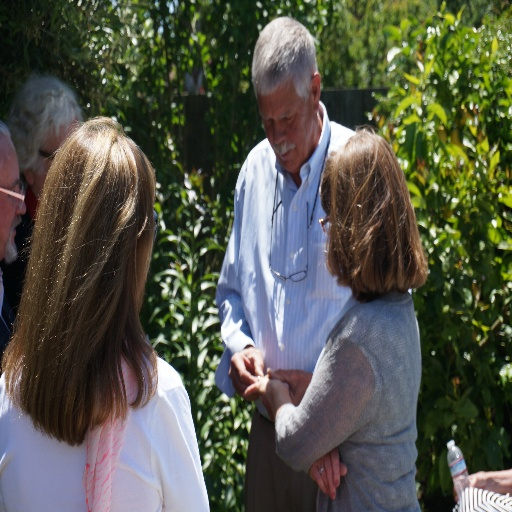hand: (227, 345, 265, 399), (315, 445, 353, 496), (265, 364, 311, 405), (245, 375, 287, 409), (454, 470, 493, 503)
